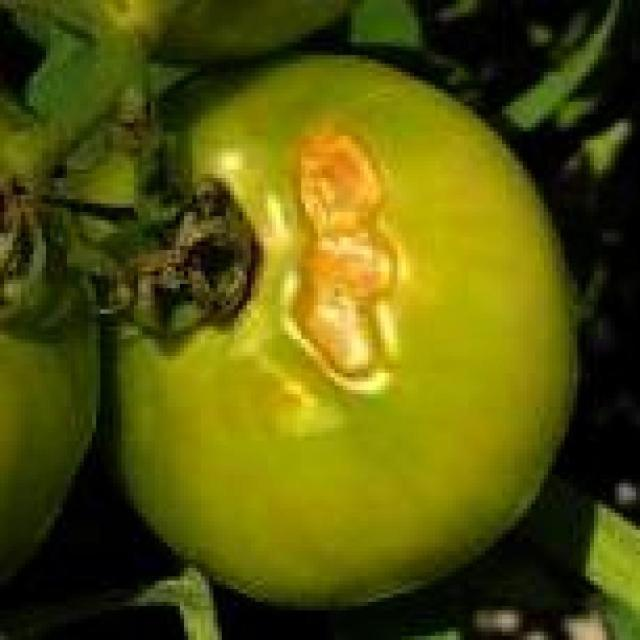Blossom End Rot Fruit: (169, 81, 289, 281)
